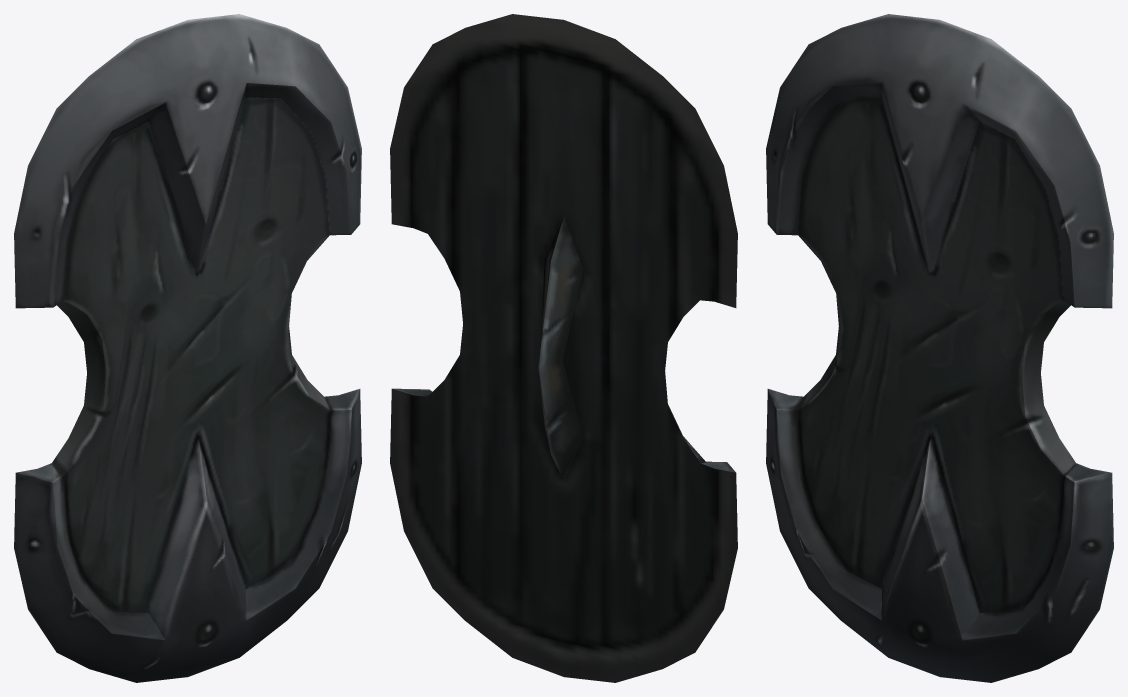
The model's file is Shield05.fbx.
The picture shows the model from 3 angles, left to right: view 1: azimuth 30°, elevation 25°; view 2: azimuth 150°, elevation 25°; view 3: azimuth 330°, elevation 25°; orthographic projection.
Parts seen in each view (by area): view 1: Shield05; view 2: Shield05; view 3: Shield05.
Part boxes in pixels (x1,y1,x2,y2): Shield05: [14, 14, 361, 682]; Shield05: [390, 14, 737, 682]; Shield05: [766, 14, 1113, 682].
Bounding box in the file's own units: 0.9352 × 1.69 × 0.2131.
